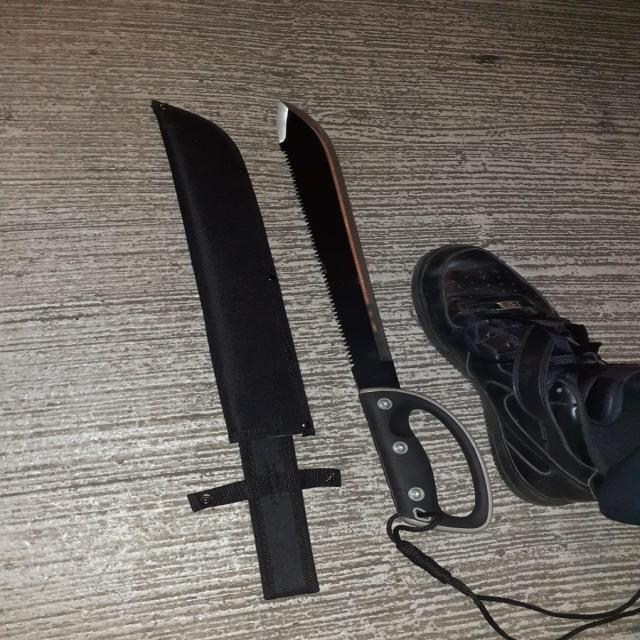Sharp-Object: (269, 94, 487, 534)
